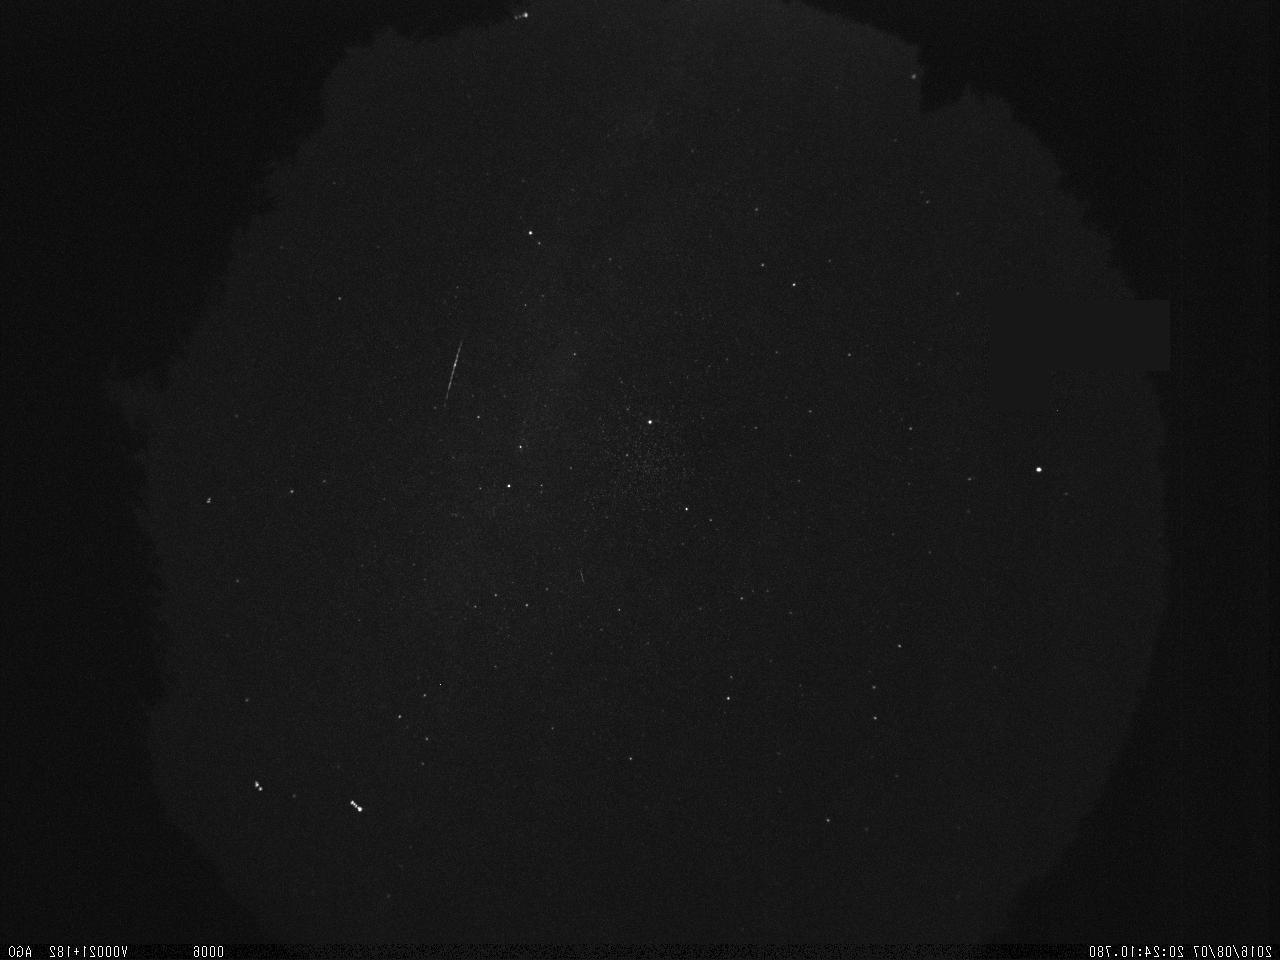meteor: (434, 324, 471, 413)
satelite: (345, 795, 370, 819), (247, 776, 269, 797)
